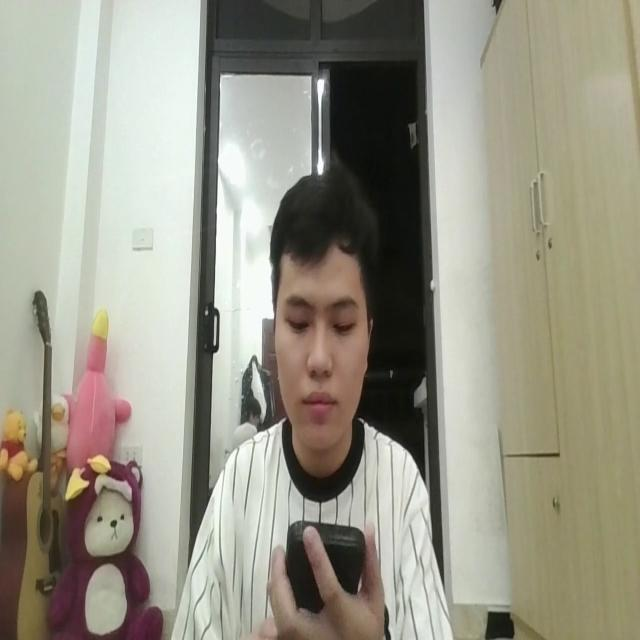phone: (285, 513, 366, 608)
student: (161, 164, 457, 640)
